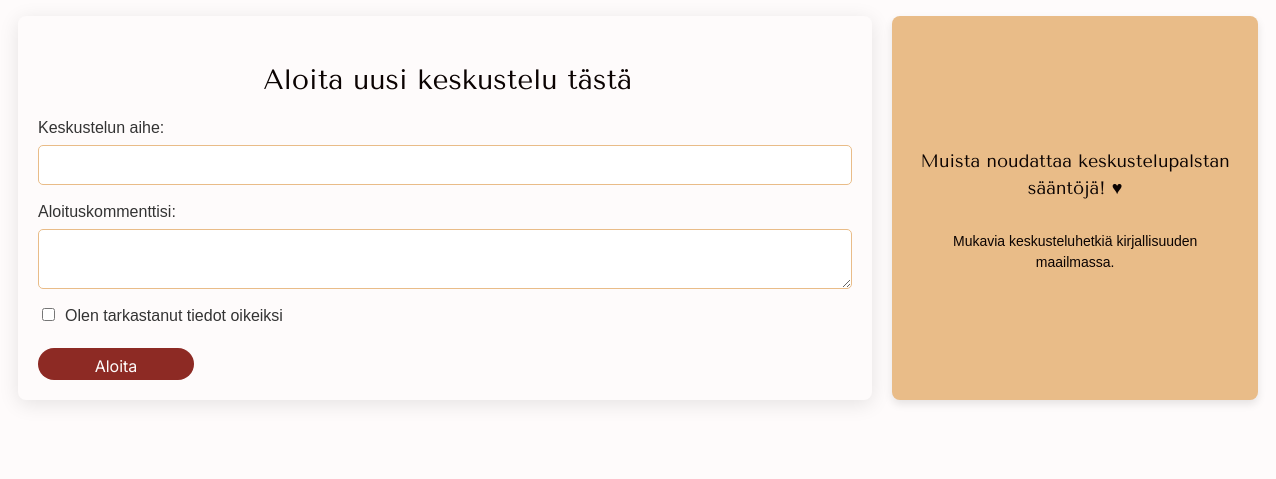
Test: Aloita-komponentti › näyttää virheilmoituksen, jos createThread epäonnistuu
Note: Täytetään kentät normaalisti
Type "Testiaihe" into the field labelled "Keskustelun aihe:" at [445, 165], box [38,145,852,185]
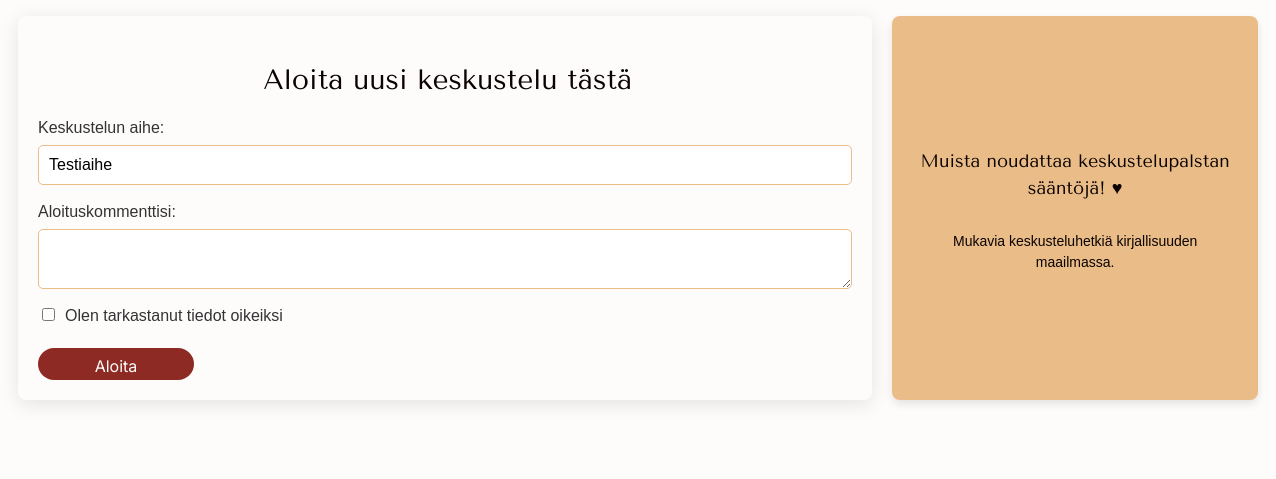
Type "Testikommentti" into the text box labelled "Aloituskommenttisi:" at [445, 259], box [38,229,852,289]
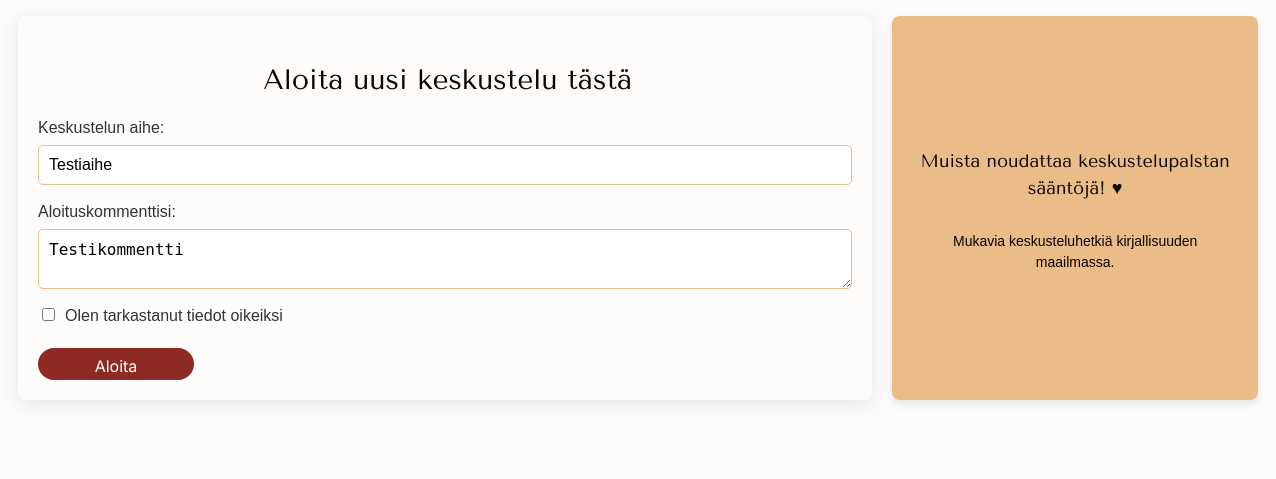
Click the checkbox labelled "Olen tarkastanut tiedot oikeiksi" at [48, 315], box [42,308,55,321]
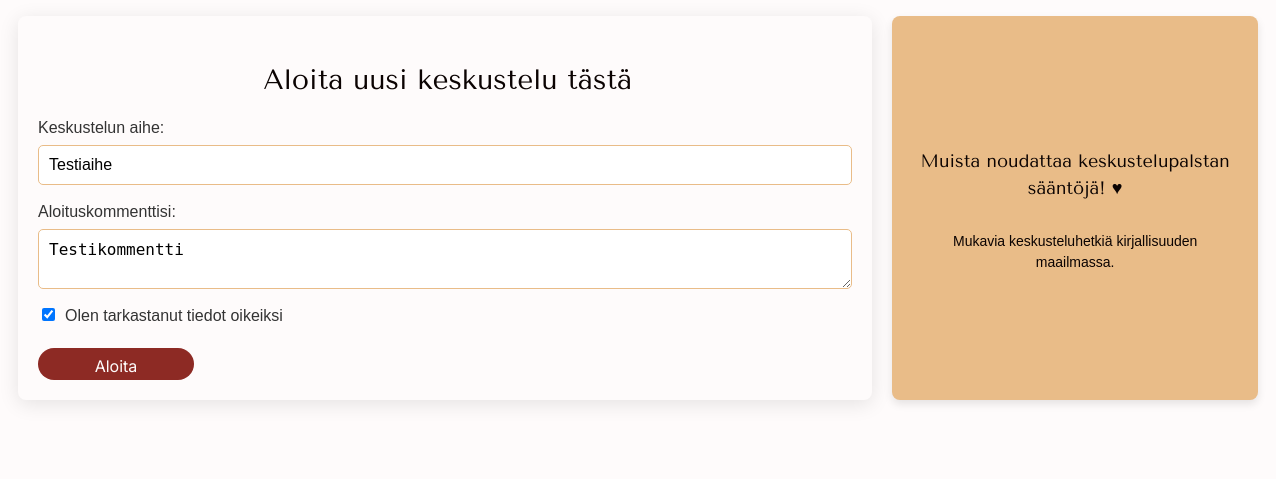
Note: Klikataan "Aloita"-nappia
Click the button "Aloita" at [116, 364], box [38,348,194,380]
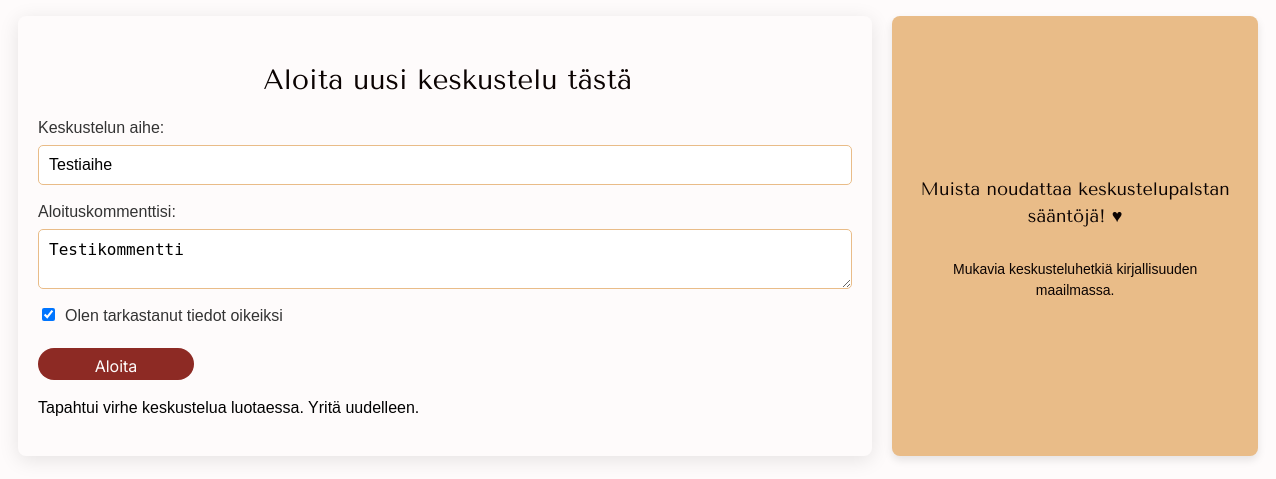
Expected: the text "Tapahtui virhe keskustelua luotaessa. Yritä uudelleen." is shown, [38,399,419,416]
